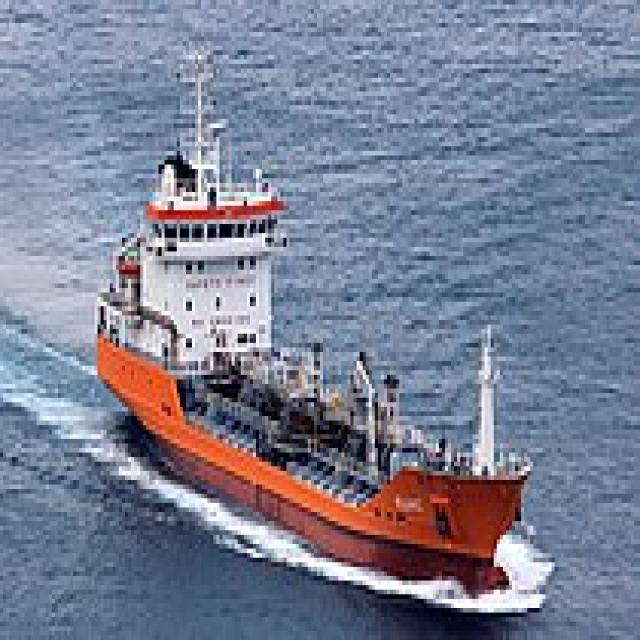Tanker: (91, 50, 528, 590)
